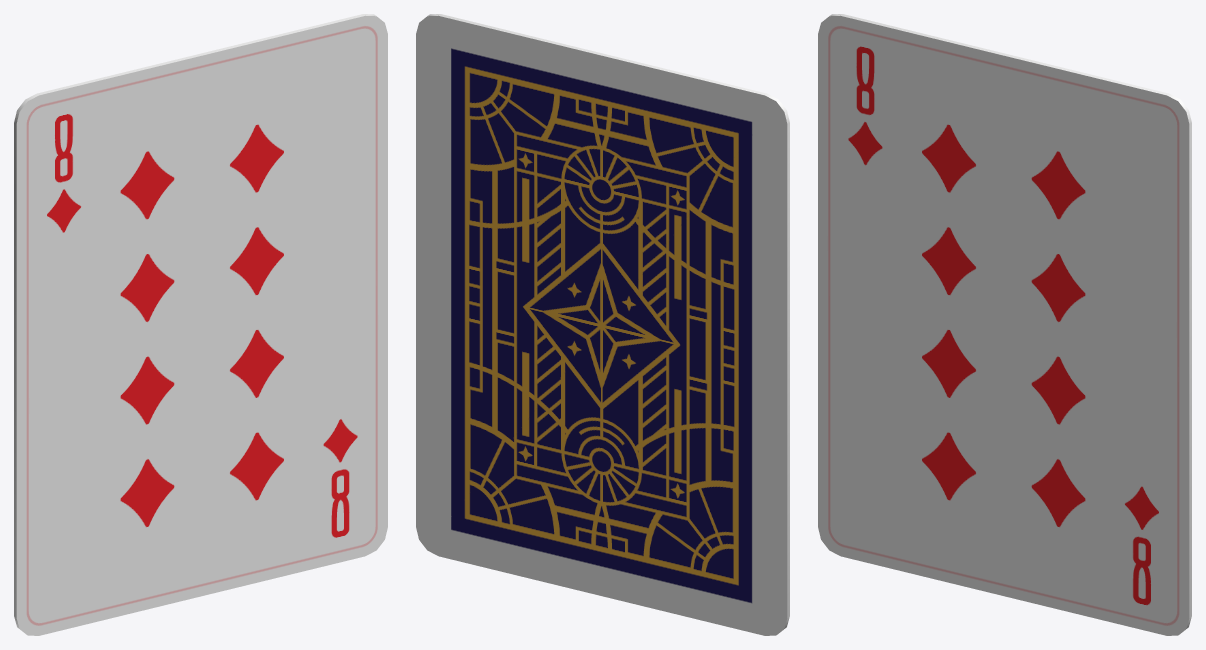
The model's file is card_diamonds_eight.obj.
3 renders of one model, left to right at view 1: azimuth 30°, elevation 25°; view 2: azimuth 150°, elevation 25°; view 3: azimuth 330°, elevation 25°, orthographic.
Parts seen in each view (by area): view 1: card_diamonds_eight; view 2: card_diamonds_eight; view 3: card_diamonds_eight.
Part boxes in pixels (box(x1,y1,x2,y2)): card_diamonds_eight: box(14, 14, 387, 635); card_diamonds_eight: box(416, 14, 789, 635); card_diamonds_eight: box(818, 14, 1191, 635).
Size of the model in its own units: 4.31 by 6 by 0.05.
2 materials, 2 textured.
